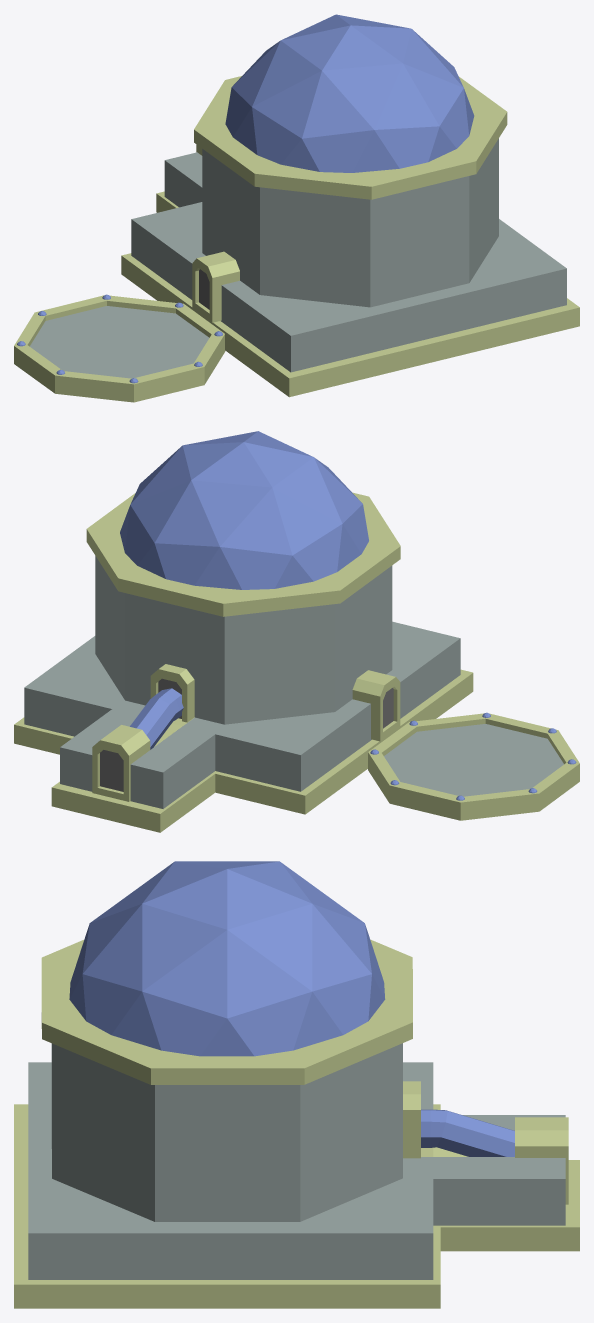
File: centre commercial 02.fbx
The picture shows the model from 3 angles, top to bottom: view 1: azimuth 30°, elevation 25°; view 2: azimuth 150°, elevation 25°; view 3: azimuth 270°, elevation 25°; orthographic projection. The views are drawn at different scales.
Visible parts, largest first — view 1: Cylinder, Cube, Icosphere, Cylinder.002, Cube.003; view 2: Cylinder, Cube, Icosphere, Cylinder.002, Cube.002, Cube.003, Cylinder.001, Cube.001; view 3: Cylinder, Cube, Icosphere, Cylinder.001, Cube.002, Cube.001.
Boxes of the visible parts, x1,y1,x2,y2 form: Cylinder: (194,76,507,307); Cube: (121,152,579,397); Icosphere: (225,14,474,172); Cylinder.002: (14,295,225,402); Cube.003: (192,251,239,322); Cylinder: (86,492,400,724); Cube: (14,621,473,832); Icosphere: (120,431,368,589); Cylinder.002: (368,713,579,820); Cube.002: (92,725,150,801); Cube.003: (352,670,400,741); Cylinder.001: (130,688,183,749); Cube.001: (150,664,194,722); Cylinder: (41,939,412,1221); Cube: (14,1062,579,1308); Icosphere: (69,861,385,1056); Cylinder.001: (421,1109,514,1156); Cube.002: (515,1117,568,1204); Cube.001: (403,1081,420,1158).
Size of the model in its own units: 1181 by 677 by 987.
